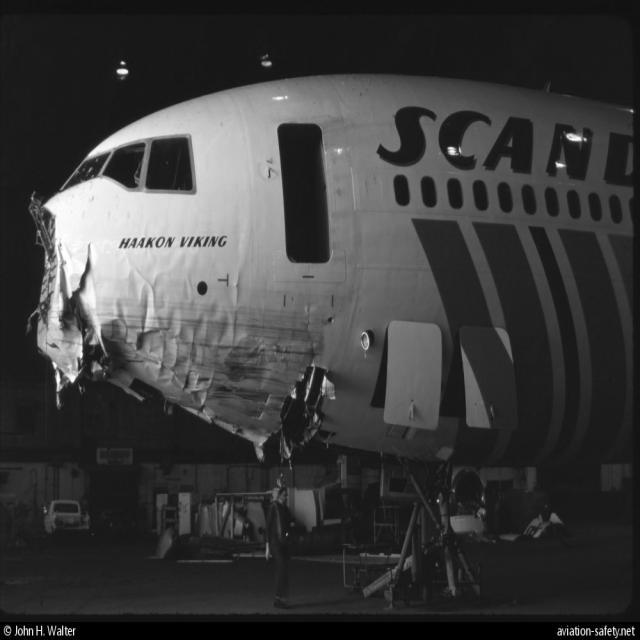crack: (295, 300, 323, 376), (71, 242, 103, 305)
dent: (109, 262, 189, 346)
